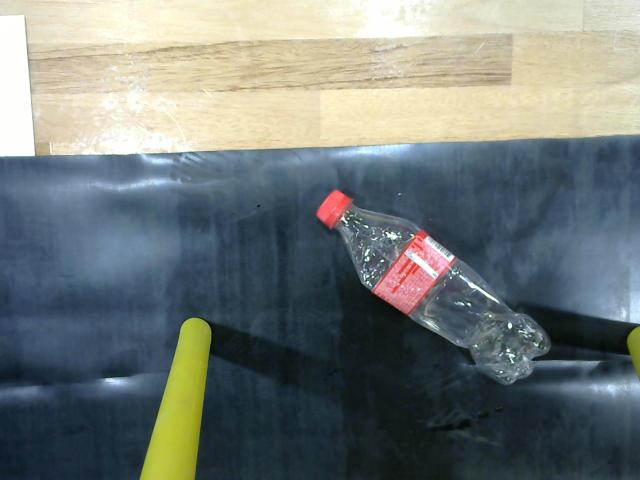bottle: (319, 181, 567, 395)
